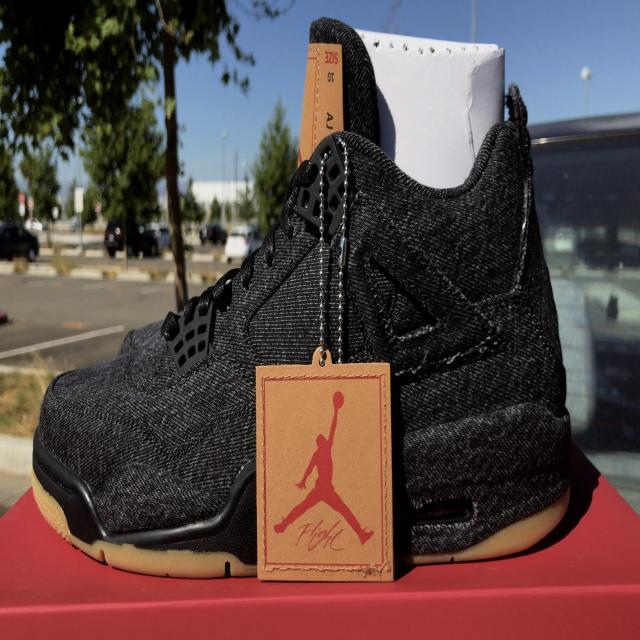shoes: (29, 15, 573, 583)
